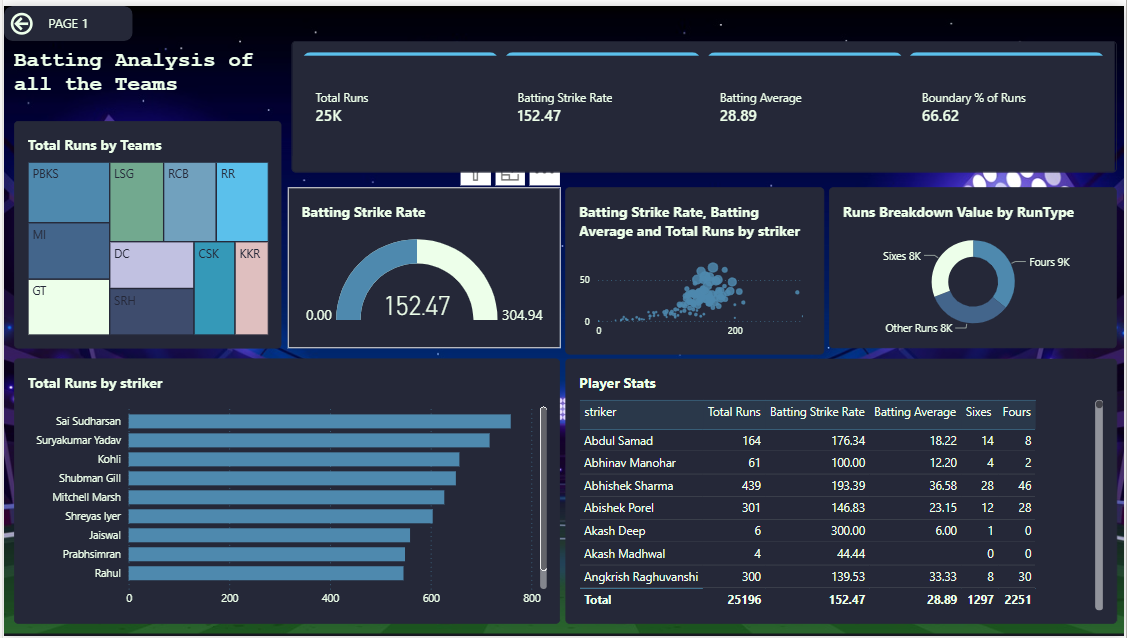

The dashboard page shown, as its layout file describes it:
{"tool":"powerbi","page":{"name":"Batting Analysis","canvas":[1280,720],"ordinal":1},"visuals":[{"type":"barChart","fields":{"Category":["Dim_Players.Players"],"Y":["_Measures Batting.Total Runs"]},"box":[11.4,402.9,624.3,302.9],"z":0},{"type":"scatterChart","fields":{"X":["_Measures Batting.Batting Strike Rate"],"Category":["Dim_Players.Players"],"Y":["_Measures Batting.Batting Average"],"Size":["_Measures Batting.Total Runs (Batter)"]},"box":[641.4,207.1,295.7,191.4],"z":1000},{"type":"treemap","fields":{"Group":["Dim_teams.Team_code"],"Values":["_Measures Batting.Total Runs (Batter)"]},"box":[11.4,131.4,305.7,260],"z":2000},{"type":"actionButton","box":[0,0,147.1,40],"z":3000},{"type":"gauge","fields":{"Y":["_Measures Batting.Batting Strike Rate"]},"box":[324.3,207.1,311.4,184.3],"z":4000},{"type":"donutChart","fields":{"Category":["RunsBreakdown.RunType"],"Y":["_Measures Batting.Runs Breakdown Value"]},"box":[942.9,207.1,328.6,184.3],"z":5000},{"type":"textbox","box":[11.4,48.6,312.9,81.4],"z":7000},{"type":"cardVisual","fields":{"Data":["_Measures Batting.Total Runs","_Measures Batting.Batting Strike Rate","_Measures Batting.Batting Average","_Measures Batting.Boundary % of Runs"]},"box":[328.6,40,942.9,150],"z":8000},{"type":"tableEx","title":"Player Stats","fields":{"Values":["Dim_Players.striker","_Measures Batting.Total Runs","_Measures Batting.Batting Strike Rate","_Measures Batting.Batting Average","_Measures Batting.Sixes","_Measures Batting.Fours"]},"box":[641.4,402.9,630,302.9],"z":8001}]}

Visuals, with their boxes on the page's 1280x720 design canvas (x1, y1, x2, y2). These are canvas units, not pixel positions in the 1127x638 screenshot, which may show the page scaled, cropped or inside an application window:
barChart - Dim_Players.Players x _Measures Batting.Total Runs: bbox(11, 403, 636, 706)
scatterChart - _Measures Batting.Batting Strike Rate x Dim_Players.Players: bbox(641, 207, 937, 398)
treemap - Dim_teams.Team_code x _Measures Batting.Total Runs (Batter): bbox(11, 131, 317, 391)
actionButton: bbox(0, 0, 147, 40)
gauge - _Measures Batting.Batting Strike Rate: bbox(324, 207, 636, 391)
donutChart - RunsBreakdown.RunType x _Measures Batting.Runs Breakdown Value: bbox(943, 207, 1272, 391)
textbox: bbox(11, 49, 324, 130)
cardVisual - _Measures Batting.Total Runs x _Measures Batting.Batting Strike Rate: bbox(329, 40, 1272, 190)
"Player Stats" tableEx: bbox(641, 403, 1271, 706)
